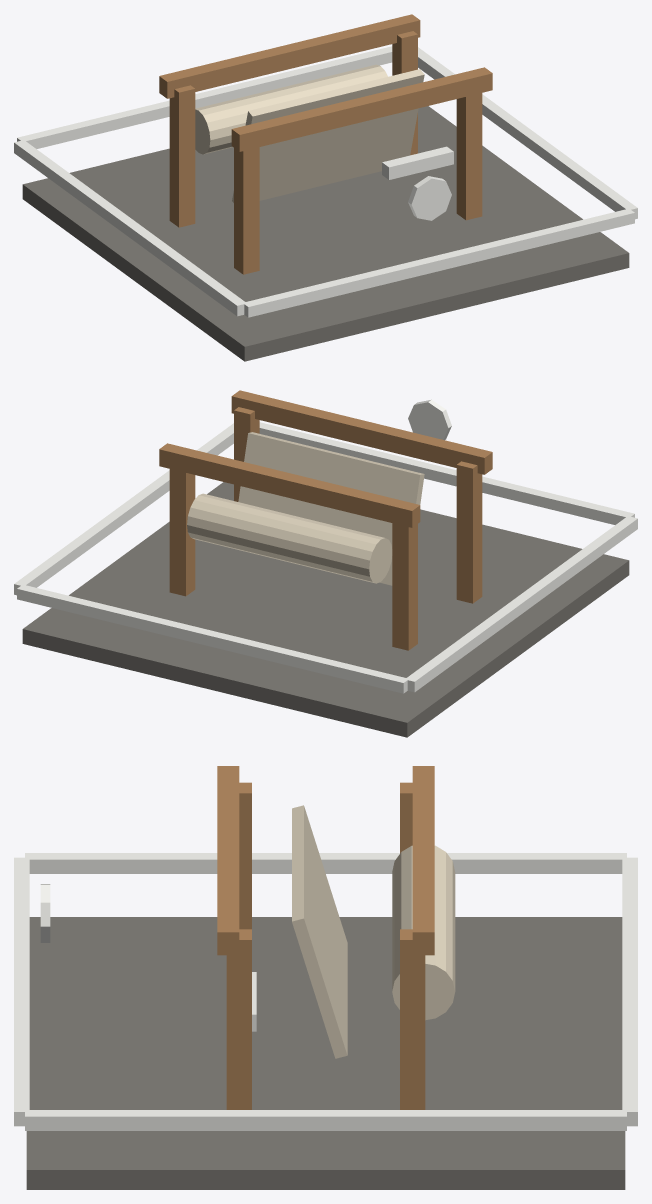
Rendered from t8_loom.glb.
3 views of the same model, one above another, from view 1: azimuth 30°, elevation 25°; view 2: azimuth 150°, elevation 25°; view 3: azimuth 270°, elevation 25° (orthographic). The views are drawn at different scales.
Parts seen in each view (by area): view 1: FootprintBase, ClothSheet, FrontBeam, TierFrontTrim, BackBeam, TierBackTrim, TierLeftTrim, ClothRoll, FramePost.001, TierRightTrim, FramePost.002, FramePost (+3 smaller); view 2: FootprintBase, ClothRoll, ClothSheet, BackBeam, TierBackTrim, FrontBeam, TierFrontTrim, TierLeftTrim, FramePost, TierRightTrim, FramePost.001, FramePost.003 (+2 smaller); view 3: FootprintBase, TierRightTrim, TierLeftTrim, ClothSheet, ClothRoll, BackBeam, FrontBeam, FramePost.002, FramePost.003, TierBackTrim, TierFrontTrim, FramePost (+2 smaller).
Part boxes in pixels (x1,y1,x2,y2): FootprintBase: (22, 106, 629, 361); ClothSheet: (232, 69, 424, 202); FrontBeam: (231, 67, 492, 151); TierFrontTrim: (243, 209, 634, 317); BackBeam: (159, 14, 420, 98); TierBackTrim: (17, 46, 392, 148); TierLeftTrim: (14, 140, 246, 316); ClothRoll: (195, 64, 387, 154); FramePost.001: (169, 85, 195, 227); TierRightTrim: (418, 47, 637, 219); FramePost.002: (456, 93, 482, 220); FramePost: (234, 147, 259, 274); FootprintBase: (22, 482, 629, 737); ClothRoll: (187, 493, 392, 583); ClothSheet: (238, 432, 424, 585); BackBeam: (159, 443, 420, 527); TierBackTrim: (17, 585, 408, 693); FrontBeam: (231, 390, 492, 474); TierFrontTrim: (259, 422, 634, 524); TierLeftTrim: (405, 516, 637, 692); FramePost: (456, 461, 482, 603); TierRightTrim: (14, 423, 233, 595); FramePost.001: (392, 523, 417, 650); FramePost.003: (169, 469, 195, 596); FootprintBase: (26, 917, 625, 1189); TierRightTrim: (25, 1110, 626, 1130); TierLeftTrim: (25, 853, 626, 873); ClothSheet: (292, 805, 347, 1058); ClothRoll: (392, 845, 455, 1020); BackBeam: (412, 766, 434, 955); FrontBeam: (217, 766, 239, 955); FramePost.002: (226, 929, 251, 1109); FramePost.003: (400, 929, 425, 1109); TierBackTrim: (622, 857, 637, 1126); TierFrontTrim: (14, 857, 29, 1126); FramePost: (239, 782, 251, 929).
Bounding box in the file's own units: 3.96 × 1.5 × 3.96.
